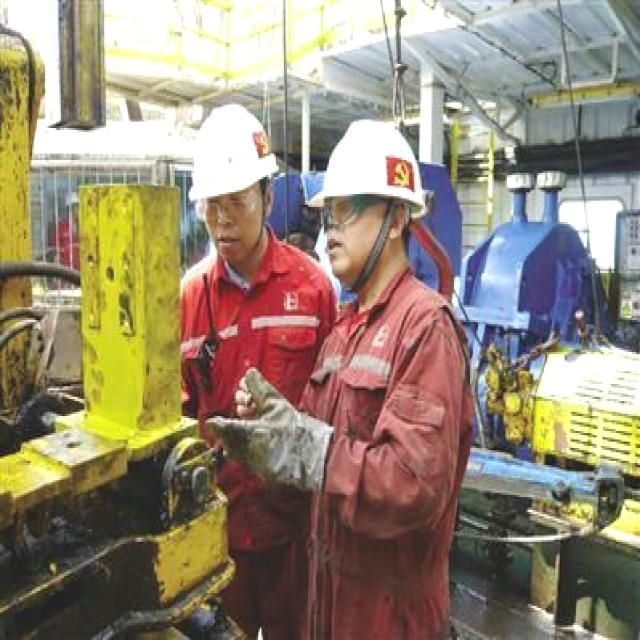face_nomask: (315, 196, 373, 268), (198, 192, 253, 253)
glasses: (192, 195, 259, 224), (317, 193, 361, 227)
hand_glove: (206, 365, 334, 499)
head_helmet: (304, 109, 432, 216), (179, 104, 283, 203)
person: (277, 111, 483, 640), (168, 100, 342, 640)
